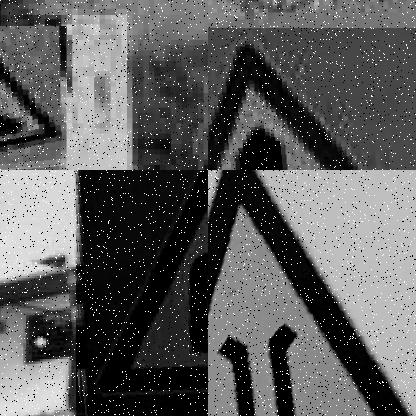Bridge Ahead: (208, 170, 410, 416)
Cross Roads: (208, 28, 416, 170)
Speed Breaker Ahead: (0, 27, 65, 167)
U-Turn: (78, 170, 208, 416), (84, 187, 208, 406)
